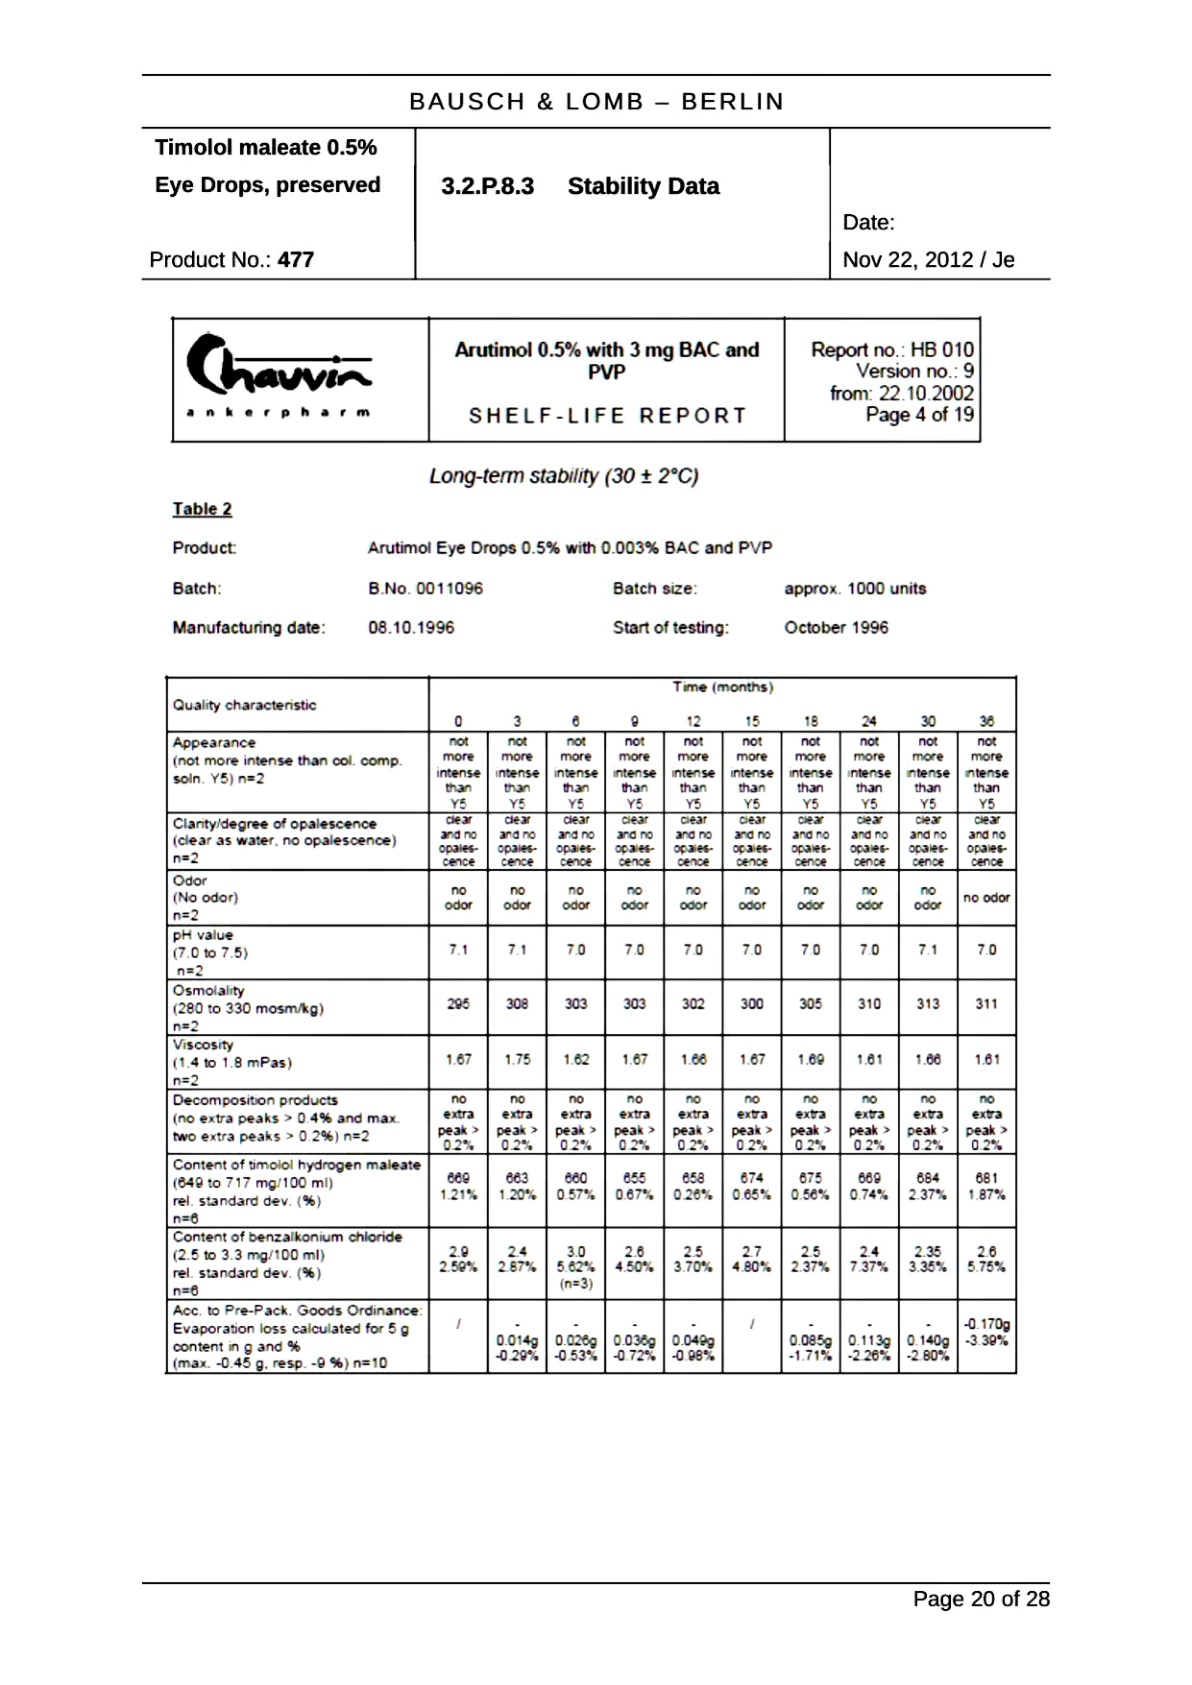full_lined: (168, 314, 982, 444)
merged_cells: (163, 675, 1019, 1377)
partial_lined: (141, 74, 1051, 281)
